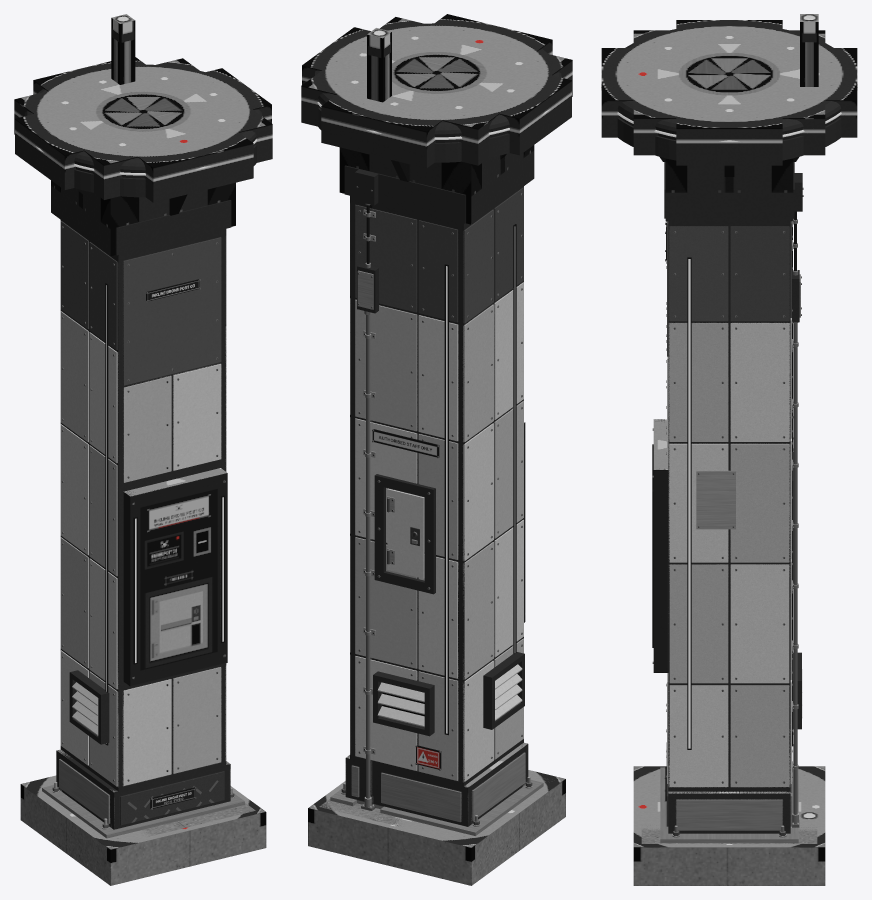
File: dronepost-ZjzYogLw.glb
The picture shows the model from 3 angles, left to right: view 1: azimuth 30°, elevation 25°; view 2: azimuth 150°, elevation 25°; view 3: azimuth 270°, elevation 25°; orthographic projection. The views are drawn at different scales.
Parts seen in each view (by area): view 1: body, farBaked, glow; view 2: body, farBaked, glow; view 3: body, farBaked, glow.
Part boxes in pixels (x1,y1,x2,y2): body: (21, 64, 266, 885); farBaked: (14, 14, 272, 885); glow: (35, 16, 257, 808); body: (308, 23, 565, 885); farBaked: (301, 14, 572, 885); glow: (317, 30, 550, 733); body: (617, 29, 841, 885); farBaked: (601, 14, 857, 885); glow: (601, 16, 857, 748).
Bounding box in the file's own units: 0.964 × 3.46 × 0.964.
Materials: 3 (3 with a texture image).
